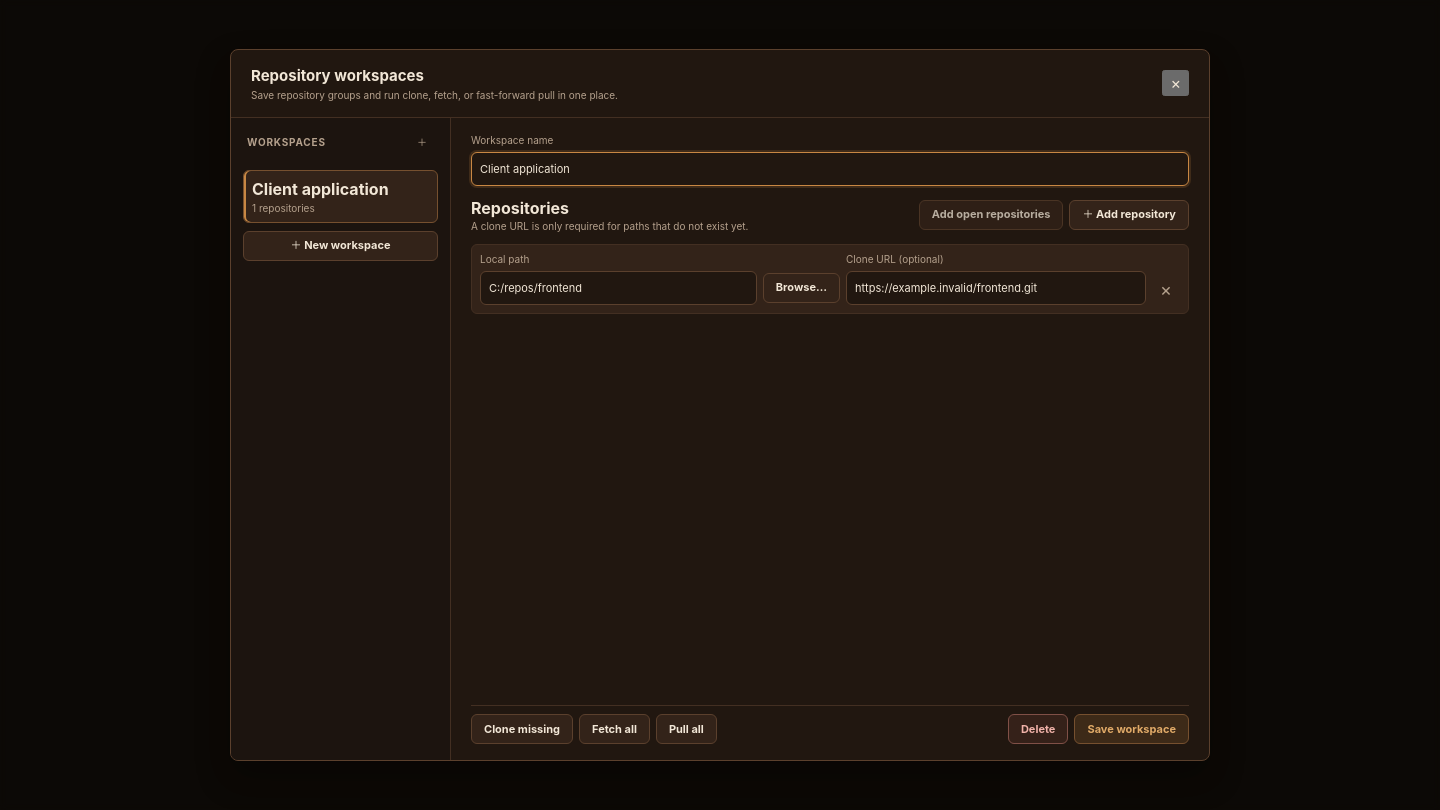
Test: WorkspaceManager › requires confirmation before pull and shows per-repository results
This screenshot has width=1440, height=810.
Expected: the field showing "Client application" is shown, x1=471 y1=152 x2=1189 y2=186
Click the button "Pull all". click: coordinates (686, 729)
box: x1=656 y1=714 x2=717 y2=744
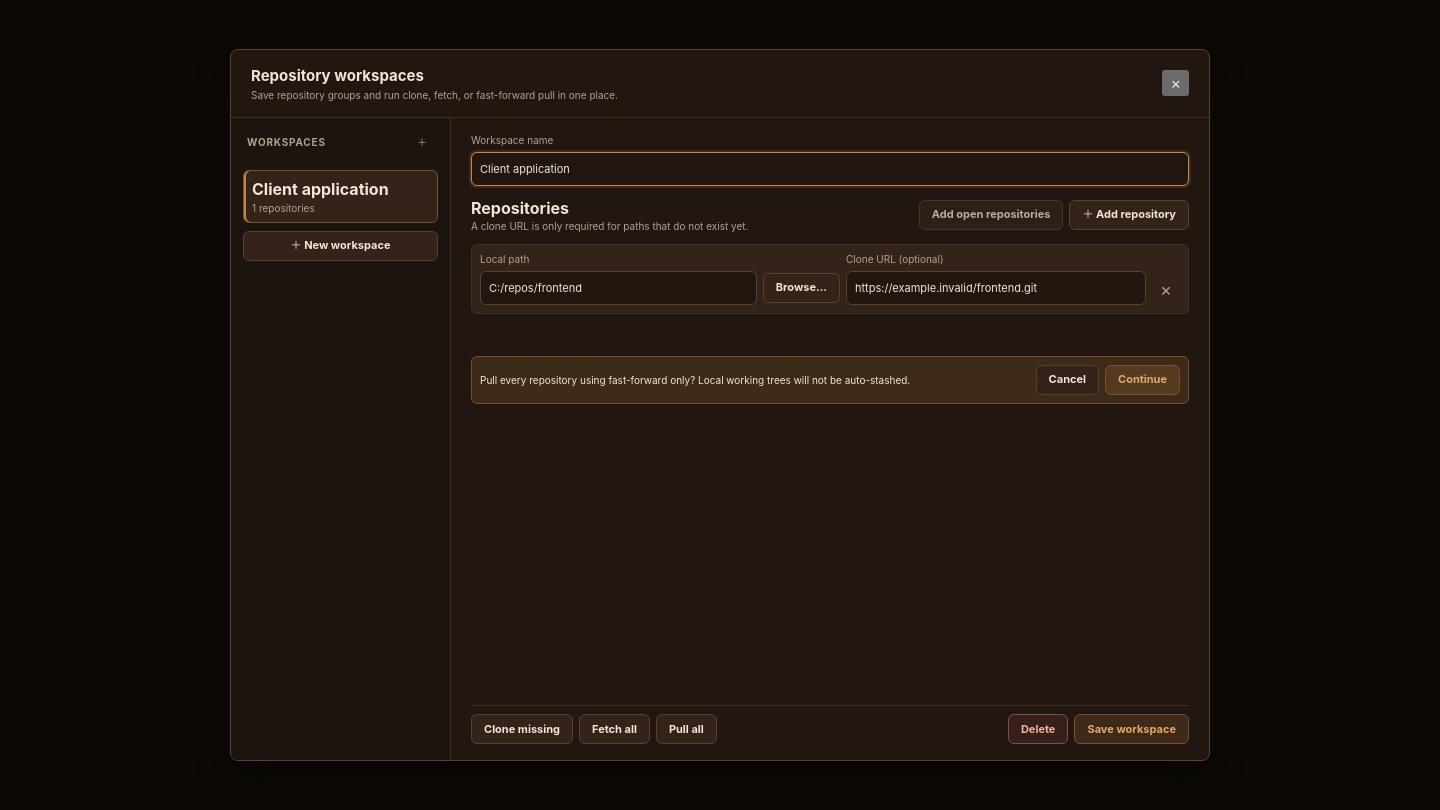
Now the dialog named "Confirm workspace operation" is shown, box x1=471 y1=356 x2=1189 y2=404
Click the button "Continue". click: coordinates (1142, 380)
box: x1=1105 y1=365 x2=1180 y2=395
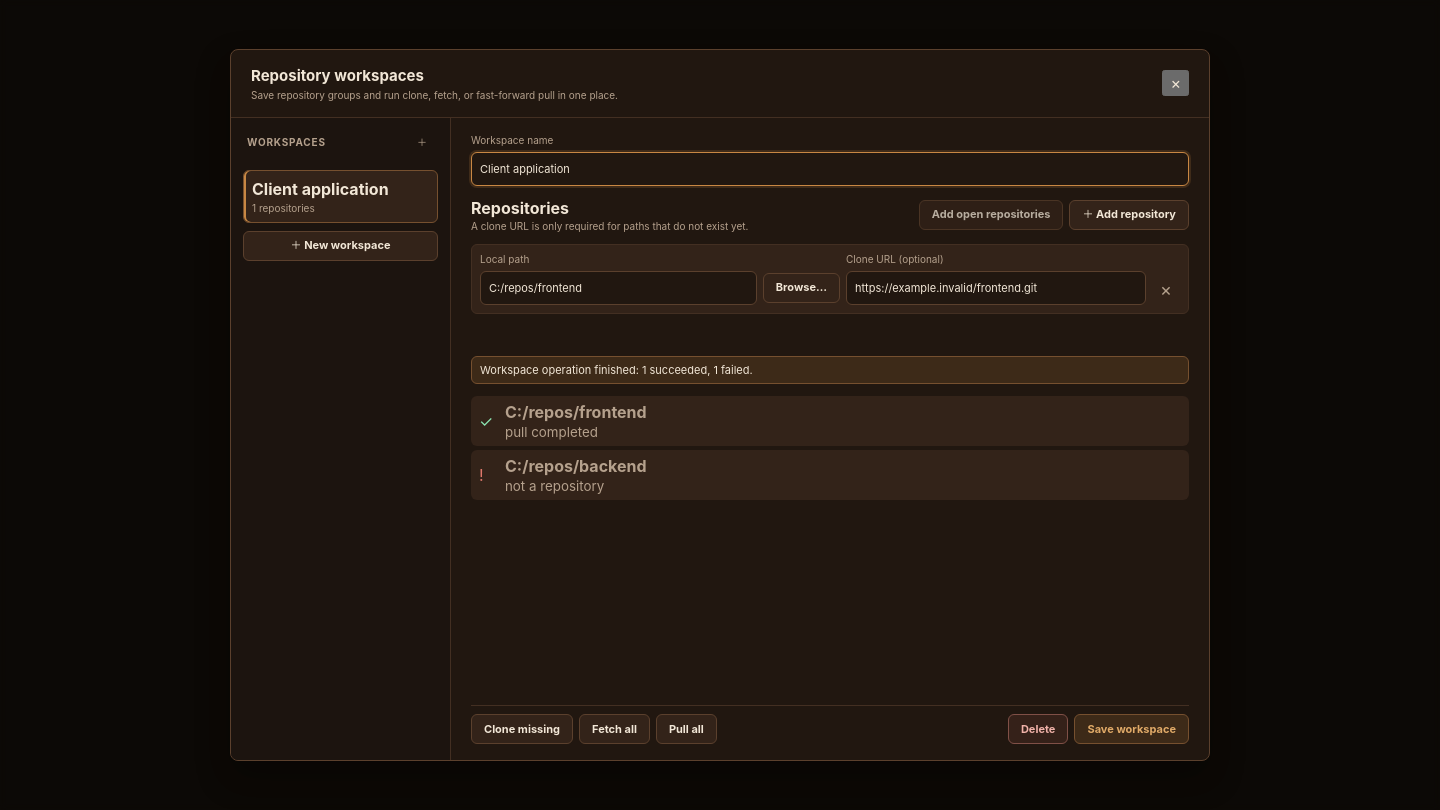
Now the text "pull completed" is shown, box x1=505 y1=424 x2=598 y2=440
Now the text "not a repository" is shown, box x1=505 y1=478 x2=604 y2=494
